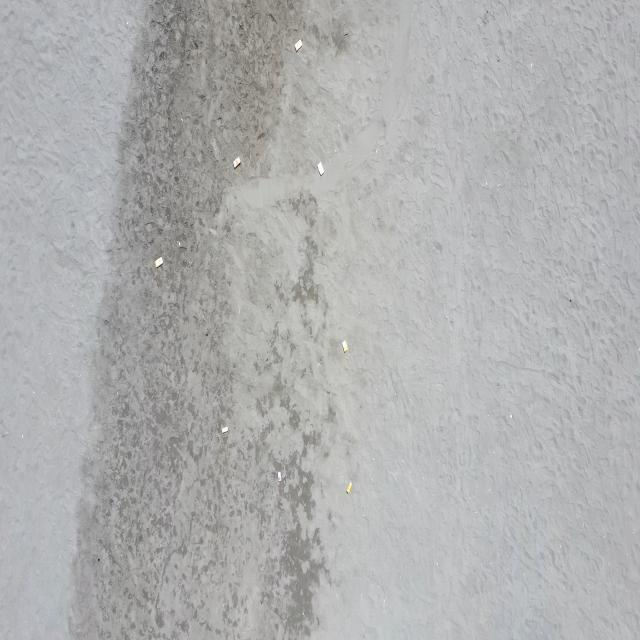Garbage: (316, 161, 324, 175), (293, 40, 301, 51), (232, 156, 240, 167), (155, 256, 163, 267), (340, 340, 347, 352), (346, 483, 352, 492), (220, 426, 227, 432), (276, 471, 280, 480)
